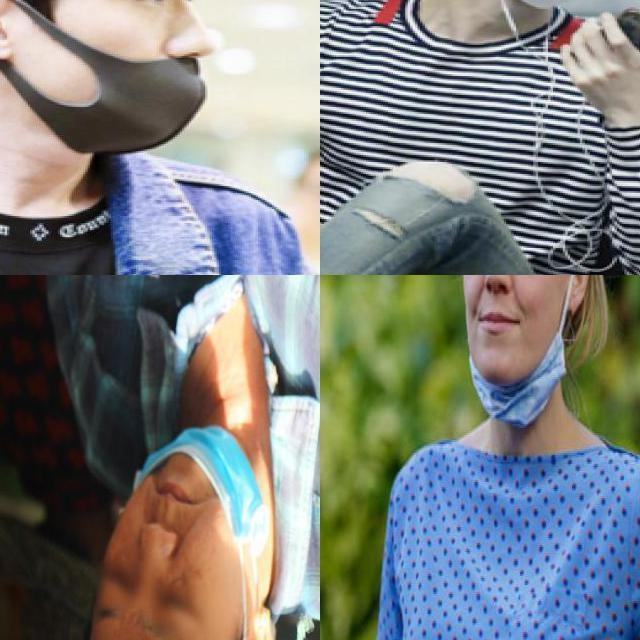hairnet: (93, 437, 258, 562), (87, 0, 222, 152), (463, 299, 566, 425)
